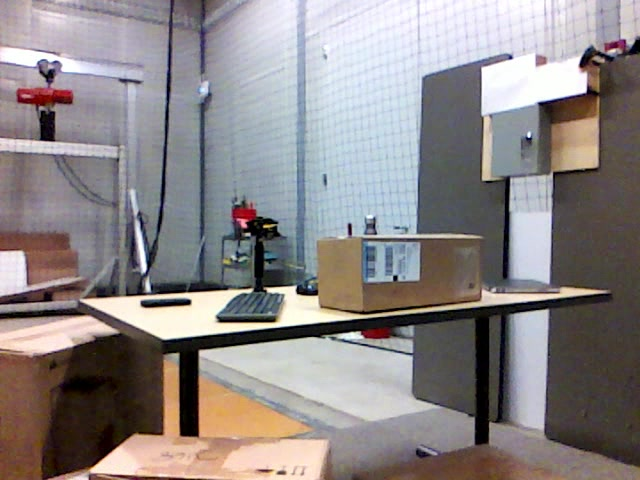box: (1, 316, 165, 480), (316, 236, 483, 308), (91, 434, 332, 480)
